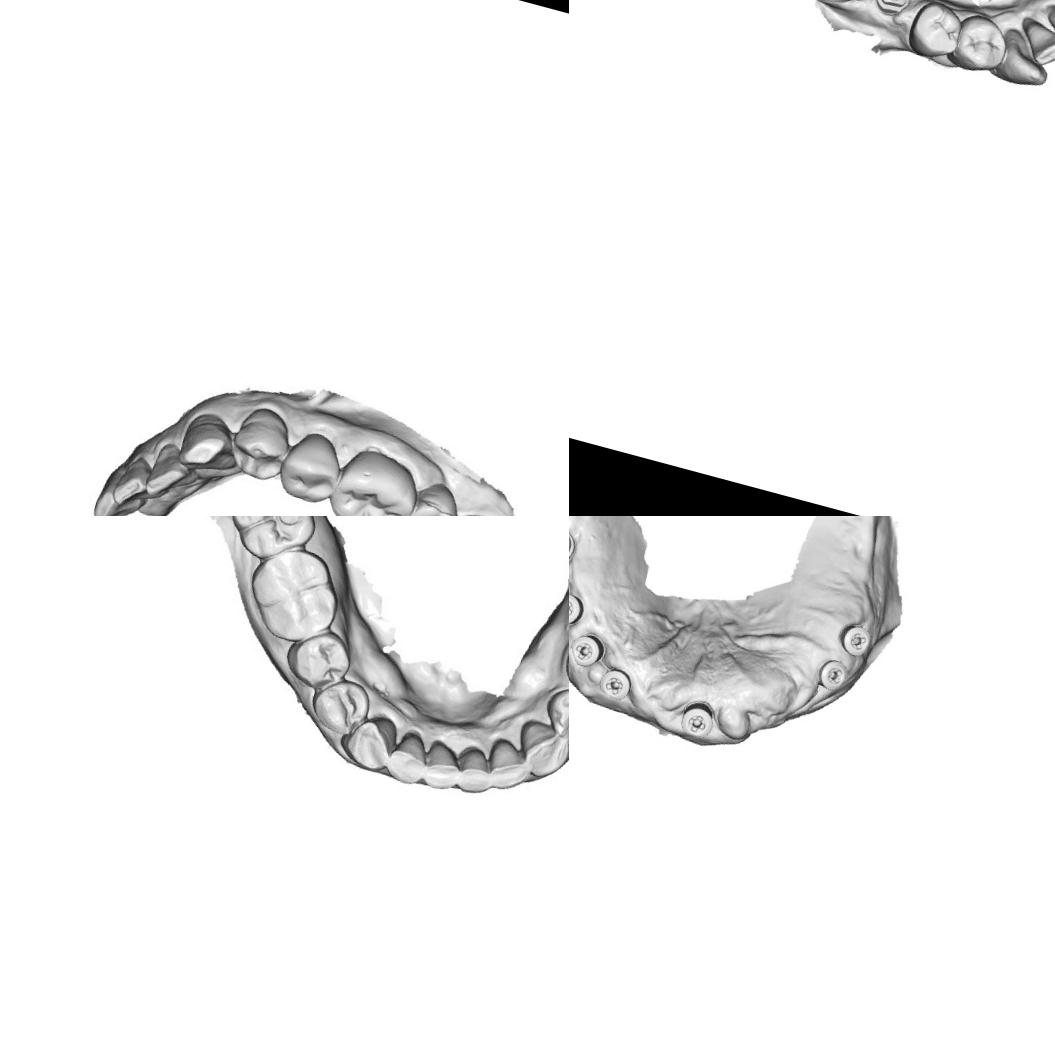canine: (175, 408, 241, 477), (989, 24, 1055, 93), (508, 713, 569, 783), (337, 710, 400, 775)
implant_minus: (869, 0, 915, 19), (569, 522, 580, 571)
implant_plus: (675, 696, 719, 743), (594, 662, 636, 704), (834, 620, 876, 661), (569, 628, 608, 671), (813, 654, 853, 694), (569, 587, 588, 629)
incisor: (416, 732, 470, 797), (381, 726, 433, 790), (483, 737, 537, 798), (142, 442, 194, 505), (108, 448, 154, 512), (1014, 15, 1055, 73), (453, 745, 496, 799), (1042, 5, 1055, 57)
molar: (236, 536, 352, 652), (322, 440, 423, 516), (219, 516, 330, 573), (395, 474, 466, 516)
premolar: (224, 400, 300, 486), (274, 424, 347, 509), (278, 621, 358, 698), (304, 672, 374, 744), (947, 10, 1014, 79), (901, 0, 968, 65), (535, 679, 569, 750), (553, 632, 569, 705)
